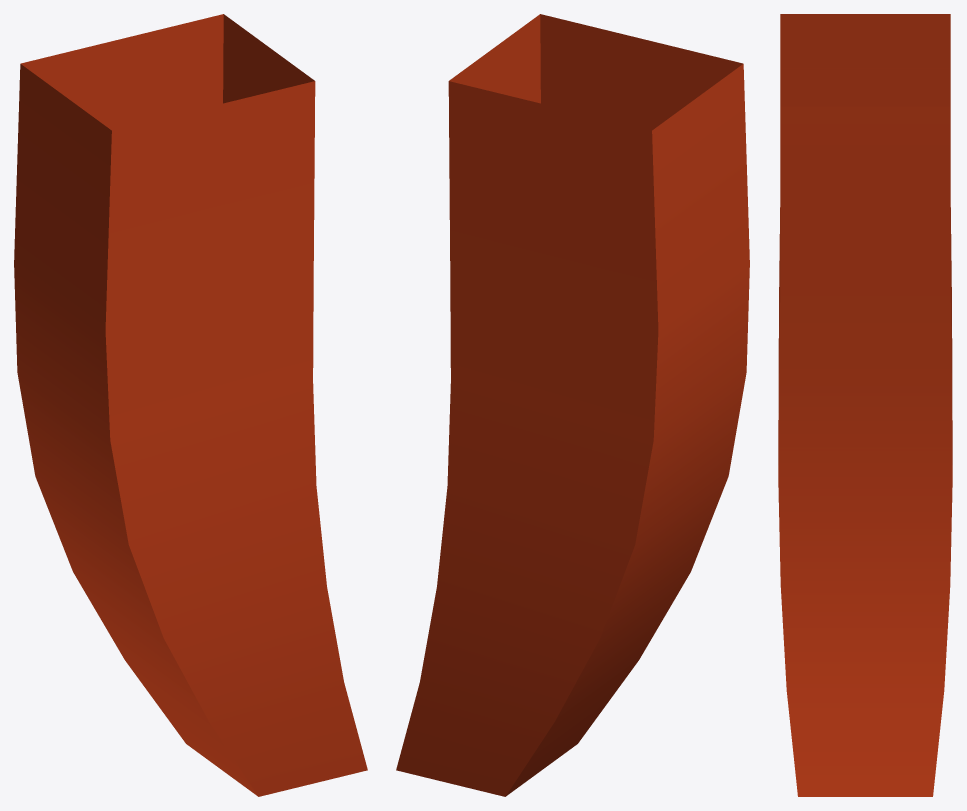
File: GL1_Trigger.fbx
The picture shows the model from 3 angles, left to right: view 1: azimuth 30°, elevation 25°; view 2: azimuth 150°, elevation 25°; view 3: azimuth 270°, elevation 25°; orthographic projection. The views are drawn at different scales.
Parts seen in each view (by area): view 1: GL1_Trigger; view 2: GL1_Trigger; view 3: GL1_Trigger.
Part boxes in pixels (box(x1,y1,x2,y2)): GL1_Trigger: box(14, 14, 367, 796); GL1_Trigger: box(396, 14, 749, 796); GL1_Trigger: box(778, 14, 952, 796).
Bounding box in the file's own units: 1.55 × 3.88 × 0.9253.
